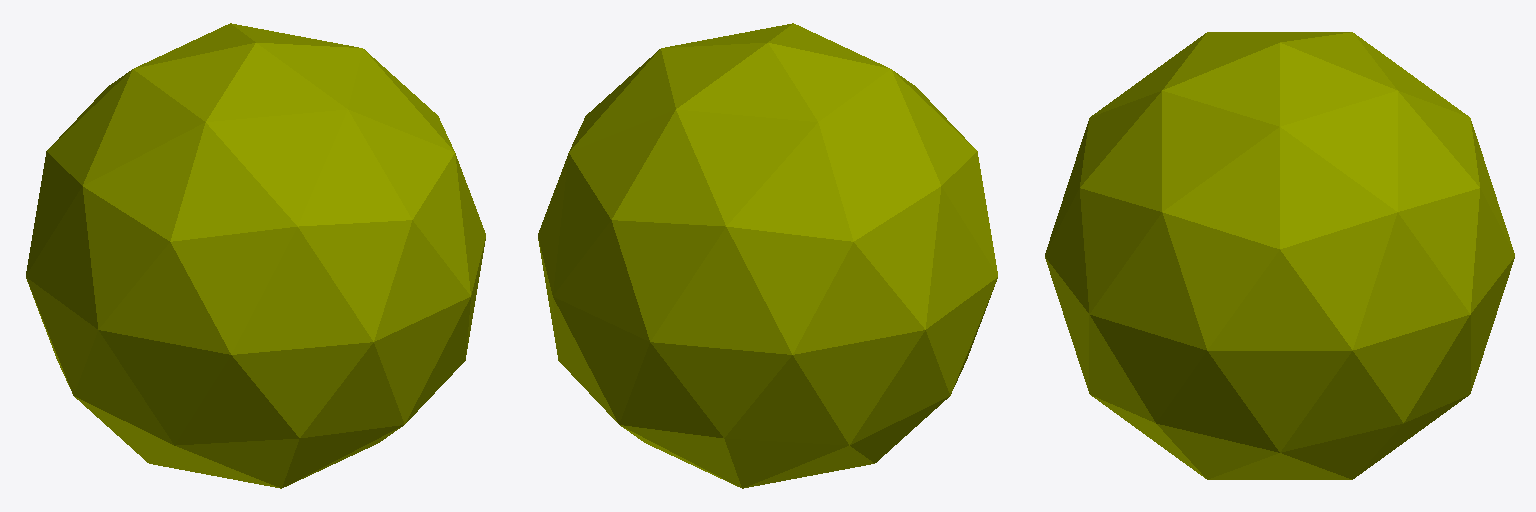
The model's file is pellet.obj.
The picture shows the model from 3 angles: view 1: azimuth 30°, elevation 25°; view 2: azimuth 150°, elevation 25°; view 3: azimuth 270°, elevation 25°; orthographic projection.
Visible parts, largest first — view 1: Icosphere; view 2: Icosphere; view 3: Icosphere.
Boxes of the visible parts, <box> form: Icosphere: <box>26,23,485,488</box>; Icosphere: <box>538,23,997,488</box>; Icosphere: <box>1045,32,1514,479</box>.
Bounding box in the file's own units: 0.9511 × 1 × 1.